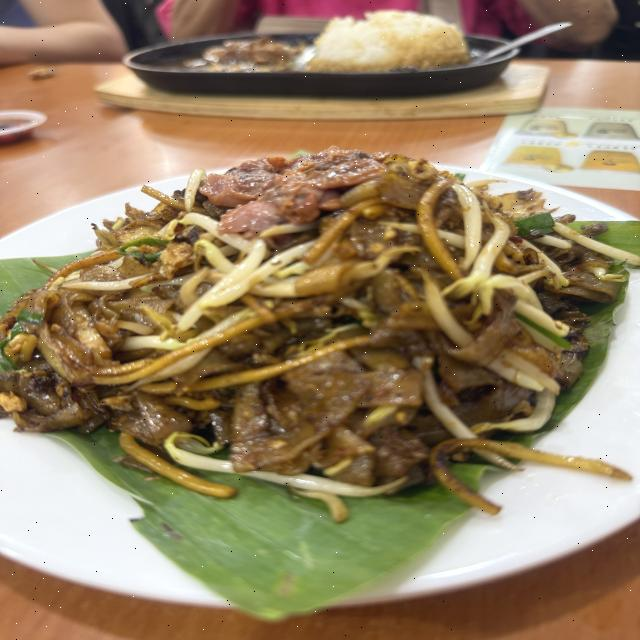Char Kway Teow: (28, 136, 612, 536)
